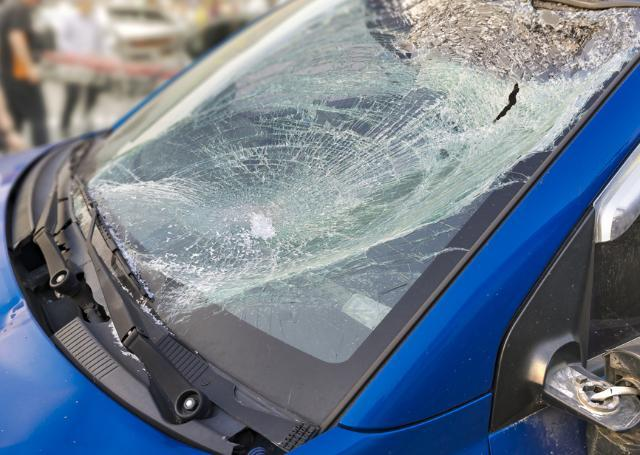Windshield: (118, 0, 529, 388)
